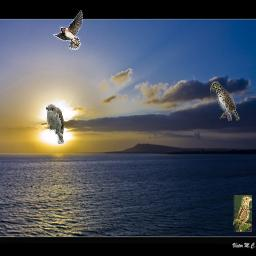Cuckoo: (46, 104, 64, 144)
Sparrow: (210, 81, 240, 121), (233, 195, 252, 232)
Swallow: (52, 10, 83, 50)
